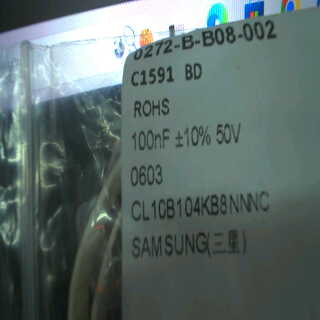100nF: (130, 126, 173, 155)
